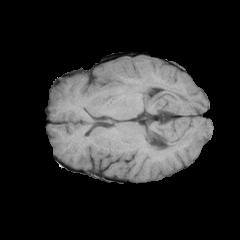glioma: (89, 56, 165, 96)
